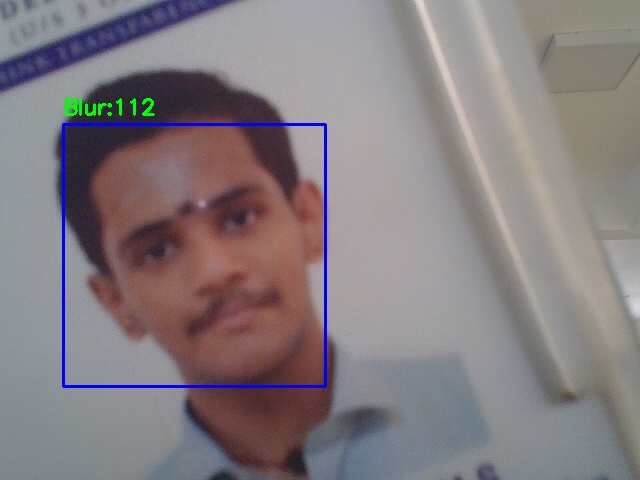fake: (63, 124, 325, 386)
